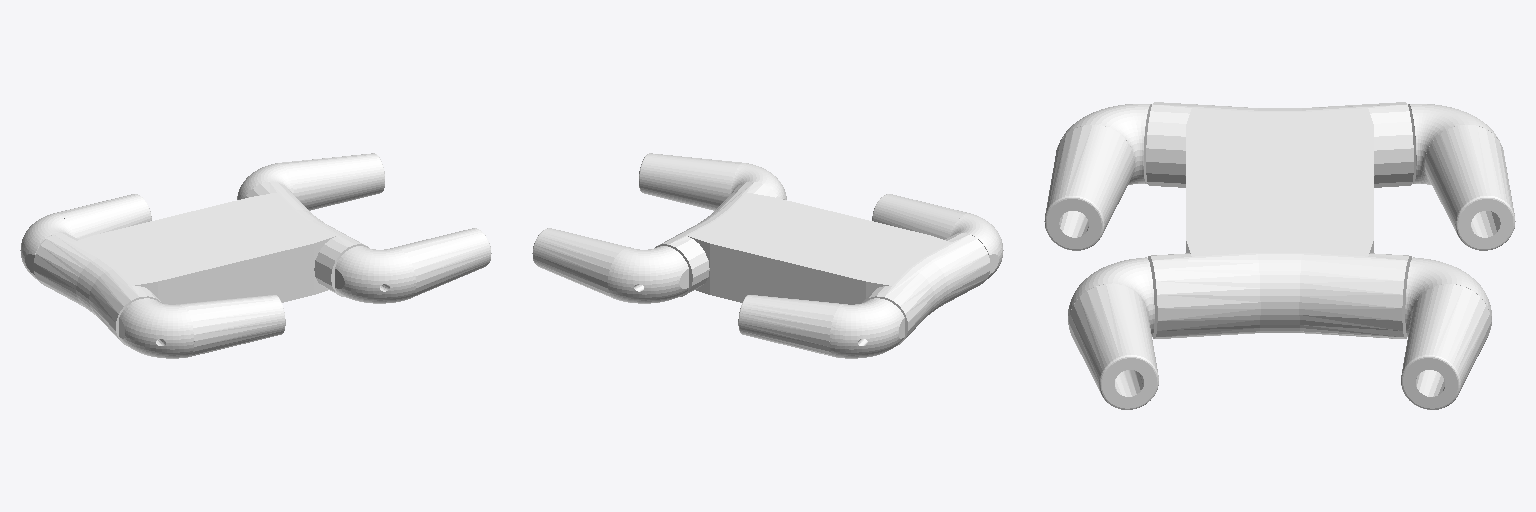
The robot description file, URDF, robot "8_degree":
<?xml version="1.0" encoding="utf-8"?>
<!-- This URDF was automatically created by SolidWorks to URDF Exporter! Originally created by [author] ([email redacted]) 
     Commit Version: 1.5.1-0-g916b5db  Build Version: 1.5.7152.31018
     For more information, please see http://wiki.ros.org/sw_urdf_exporter -->
<robot
  name="8_degree">
  <link
    name="base_link">
    <inertial>
      <origin
        xyz="0.00038068 -3.5367E-05 6.9389E-18"
        rpy="0 0 0" />
      <mass
        value="2.942" />
      <inertia
        ixx="0.0108604"
        ixy="-1.6063E-09"
        ixz="-1.0425E-10"
        iyy="0.0395942"
        iyz="1.3373E-19"
        izz="0.0478359" />
    </inertial>
    <visual>
      <origin
        xyz="0 0 0"
        rpy="0 0 0" />
      <geometry>
        <mesh
          filename="package://8_degree/meshes/base_link.STL" />
      </geometry>
      <material
        name="">
        <color
          rgba="1 1 1 1" />
      </material>
    </visual>
    <collision>
      <origin
        xyz="0 0 0"
        rpy="0 0 0" />
      <geometry>
        <mesh
          filename="package://8_degree/meshes/base_link.STL" />
      </geometry>
    </collision>
  </link>
  <link
    name="left_front_link">
    <inertial>
      <origin
        xyz="-2.73E-08 0.05683 -0.036011"
        rpy="0 0 0" />
      <mass
        value="0.095" />
      <inertia
        ixx="0.0002672"
        ixy="5.9223E-10"
        ixz="9.3631E-10"
        iyy="0.0000540"
        iyz="2.33E-05"
        izz="0.0002642" />
    </inertial>
    <visual>
      <origin
        xyz="0 0 0"
        rpy="0 0 0" />
      <geometry>
        <mesh
          filename="package://8_degree/meshes/left_front_link.STL" />
      </geometry>
      <material
        name="">
        <color
          rgba="1 1 1 1" />
      </material>
    </visual>
    <collision>
      <origin
        xyz="0 0 0"
        rpy="0 0 0" />
      <geometry>
        <mesh
          filename="package://8_degree/meshes/left_front_link.STL" />
      </geometry>
    </collision>
  </link>
  <joint
    name="left_front_leg"
    type="continuous">
    <origin
      xyz="0.14433 0.102 0"
      rpy="1.7104 1.5708 0" />
    <parent
      link="base_link" />
    <child
      link="left_front_link" />
    <axis
      xyz="0 0 -1" />
    <limit
      effort="5"
      velocity="487" />
  </joint>
  <link
    name="right_front_link">
    <inertial>
      <origin
        xyz="2.73E-08 0.05683 0.036011"
        rpy="0 0 0" />
      <mass
        value="0.095" />
      <inertia
        ixx="0.0002672"
        ixy="-5.9223E-10"
        ixz="9.3631E-10"
        iyy="0.0000540"
        iyz="-2.33E-05"
        izz="0.0002642" />
    </inertial>
    <visual>
      <origin
        xyz="0 0 0"
        rpy="0 0 0" />
      <geometry>
        <mesh
          filename="package://8_degree/meshes/right_front_link.STL" />
      </geometry>
      <material
        name="">
        <color
          rgba="1 1 1 1" />
      </material>
    </visual>
    <collision>
      <origin
        xyz="0 0 0"
        rpy="0 0 0" />
      <geometry>
        <mesh
          filename="package://8_degree/meshes/right_front_link.STL" />
      </geometry>
    </collision>
  </link>
  <joint
    name="right_front_leg"
    type="continuous">
    <origin
      xyz="0.14433 -0.102 0"
      rpy="1.4312 1.5708 0" />
    <parent
      link="base_link" />
    <child
      link="right_front_link" />
    <axis
      xyz="0 0 1" />
    <limit
      effort="5"
      velocity="487" />
  </joint>
  <link
    name="right_back_link">
    <inertial>
      <origin
        xyz="4.6838E-09 0.05683 0.03601"
        rpy="0 0 0" />
      <mass
        value="0.095" />
      <inertia
        ixx="0.0002672"
        ixy="-5.3764E-10"
        ixz="5.9261E-10"
        iyy="0.0000540"
        iyz="-2.33E-05"
        izz="0.0002642" />
    </inertial>
    <visual>
      <origin
        xyz="0 0 0"
        rpy="0 0 0" />
      <geometry>
        <mesh
          filename="package://8_degree/meshes/right_back_link.STL" />
      </geometry>
      <material
        name="">
        <color
          rgba="1 1 1 1" />
      </material>
    </visual>
    <collision>
      <origin
        xyz="0 0 0"
        rpy="0 0 0" />
      <geometry>
        <mesh
          filename="package://8_degree/meshes/right_back_link.STL" />
      </geometry>
    </collision>
  </link>
  <joint
    name="right_back_leg"
    type="continuous">
    <origin
      xyz="-0.14433 -0.102 0"
      rpy="1.7104 1.5708 0" />
    <parent
      link="base_link" />
    <child
      link="right_back_link" />
    <axis
      xyz="0 0 1" />
    <limit
      effort="5"
      velocity="487" />
  </joint>
  <link
    name="left_back_link">
    <inertial>
      <origin
        xyz="-4.6838E-09 0.05683 -0.03601"
        rpy="0 0 0" />
      <mass
        value="0.095" />
      <inertia
        ixx="0.0002672"
        ixy="5.3764E-10"
        ixz="5.9261E-10"
        iyy="0.0000540"
        iyz="2.33E-05"
        izz="0.0002642" />
    </inertial>
    <visual>
      <origin
        xyz="0 0 0"
        rpy="0 0 0" />
      <geometry>
        <mesh
          filename="package://8_degree/meshes/left_back_link.STL" />
      </geometry>
      <material
        name="">
        <color
          rgba="1 1 1 1" />
      </material>
    </visual>
    <collision>
      <origin
        xyz="0 0 0"
        rpy="0 0 0" />
      <geometry>
        <mesh
          filename="package://8_degree/meshes/left_back_link.STL" />
      </geometry>
    </collision>
  </link>
  <joint
    name="left_back_leg"
    type="continuous">
    <origin
      xyz="-0.14433 0.102 0"
      rpy="1.4312 1.5708 0" />
    <parent
      link="base_link" />
    <child
      link="left_back_link" />
    <axis
      xyz="0 0 -1" />
    <limit
      effort="5"
      velocity="487" />
  </joint>
</robot>

--- What the picture shows (computed from the rendered views, not written in the file) ---
The picture shows the robot from 3 angles, left to right: view 1: azimuth 30°, elevation 25°; view 2: azimuth 150°, elevation 25°; view 3: azimuth 270°, elevation 25°; orthographic projection.
Model 8_degree with 5 links and 4 joints (4 continuous), rooted at base_link, posed every joint at zero.
Links seen in each view (by area): view 1: base_link, right_back_link, right_front_link, left_front_link, left_back_link; view 2: base_link, left_back_link, left_front_link, right_front_link, right_back_link; view 3: base_link, left_back_link, right_back_link, left_front_link, right_front_link.
Link boxes in pixels (x1,y1,x2,y2): base_link: (33, 182, 368, 345); right_back_link: (119, 295, 285, 358); right_front_link: (335, 228, 491, 303); left_front_link: (237, 153, 384, 210); left_back_link: (20, 194, 151, 278); base_link: (655, 182, 990, 345); left_back_link: (738, 295, 904, 358); left_front_link: (532, 228, 688, 303); right_front_link: (639, 153, 786, 210); right_back_link: (872, 194, 1003, 278); base_link: (1146, 102, 1413, 338); left_back_link: (1408, 104, 1515, 250); right_back_link: (1044, 104, 1151, 250); left_front_link: (1401, 257, 1491, 409); right_front_link: (1068, 257, 1158, 409).
Size in the robot's own frame: 0.4866 by 0.3749 by 0.0672 metres.
5 mesh visuals loaded from 5 distinct referenced files (5 binary STL).